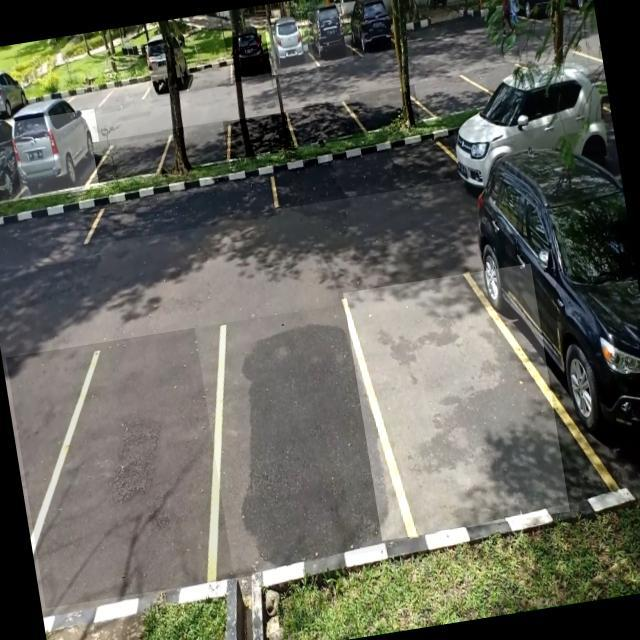empty: (6, 324, 256, 608), (344, 264, 570, 540), (194, 299, 416, 574), (80, 167, 282, 246), (268, 131, 461, 210), (92, 131, 172, 184), (286, 98, 366, 148), (414, 70, 491, 121), (162, 120, 234, 173), (349, 84, 425, 134), (223, 111, 298, 160), (98, 68, 152, 107), (184, 54, 235, 92)
occupied: (478, 212, 640, 502), (10, 108, 106, 200), (140, 35, 193, 99), (346, 1, 398, 59), (264, 19, 316, 76), (306, 7, 354, 68), (224, 31, 276, 83), (0, 121, 22, 207)
